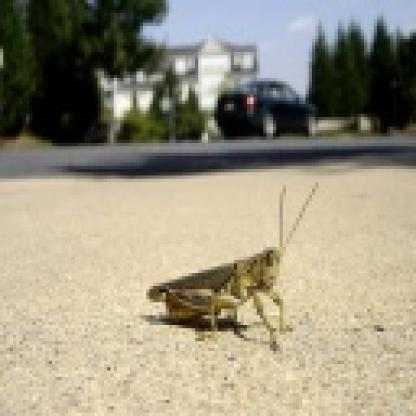grasshopper: (146, 184, 315, 340)
